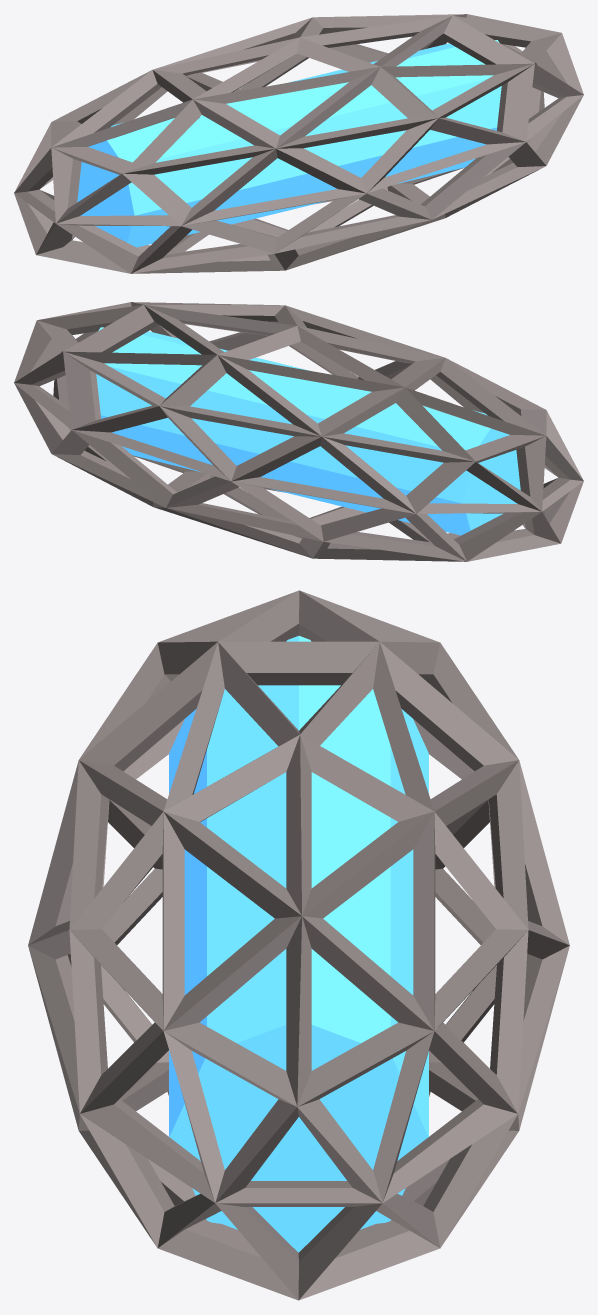
File: unkownTech.fbx
3 views of the same model, one above another, from view 1: azimuth 30°, elevation 25°; view 2: azimuth 150°, elevation 25°; view 3: azimuth 270°, elevation 25° (orthographic). The views are drawn at different scales.
Parts seen in each view (by area): view 1: unknownTech; view 2: unknownTech; view 3: unknownTech.
Part boxes in pixels (box(x1,y1,x2,y2)): unknownTech: box(14, 14, 583, 273); unknownTech: box(14, 302, 583, 561); unknownTech: box(28, 590, 569, 1300).
Size of the model in its own units: 34.05 by 13.07 by 15.13.
